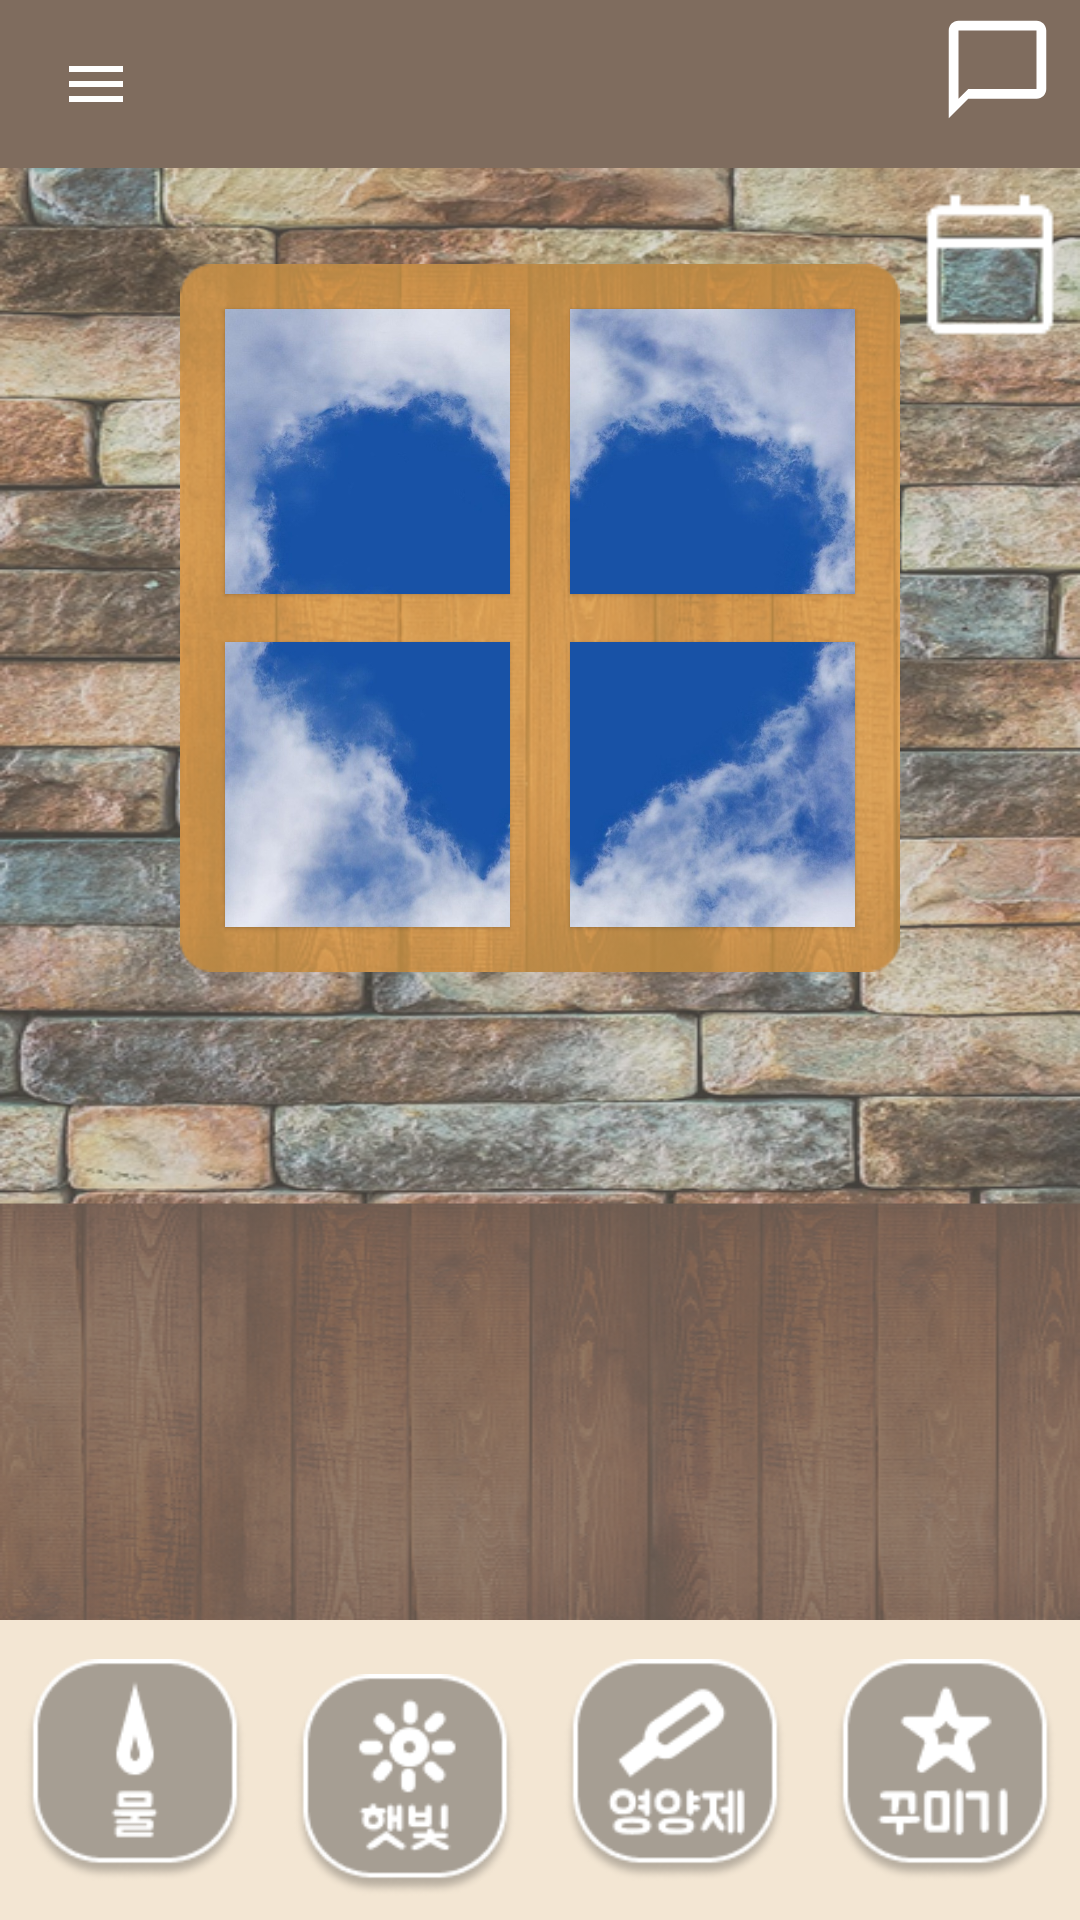

Locate icon controls on the screen. Image size 1080×1920, boxes as (x1, y1, x2, y2).
말풍선: (948, 20, 1047, 118)
햄버거 메뉴: (69, 66, 123, 102)
